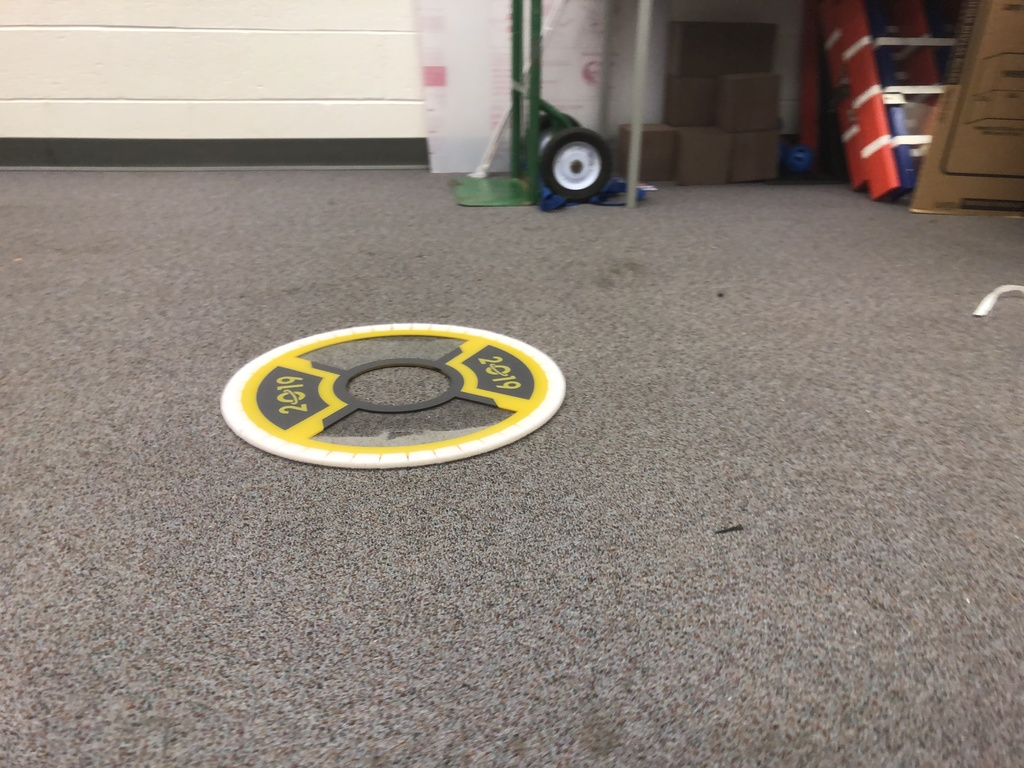hatch_panel: (215, 313, 566, 470)
